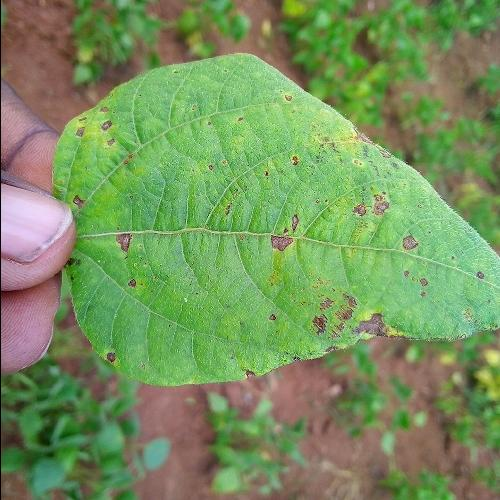hawar: (292, 283, 403, 362), (280, 109, 386, 170), (248, 195, 314, 266), (334, 174, 399, 232), (58, 97, 114, 160), (98, 221, 142, 294), (396, 264, 440, 304), (101, 339, 123, 378), (274, 84, 302, 108), (70, 182, 92, 210), (203, 152, 227, 175), (398, 236, 426, 254), (467, 264, 486, 285), (240, 368, 260, 383), (267, 310, 281, 329)
mozaik: (115, 51, 248, 151), (142, 258, 242, 374)
